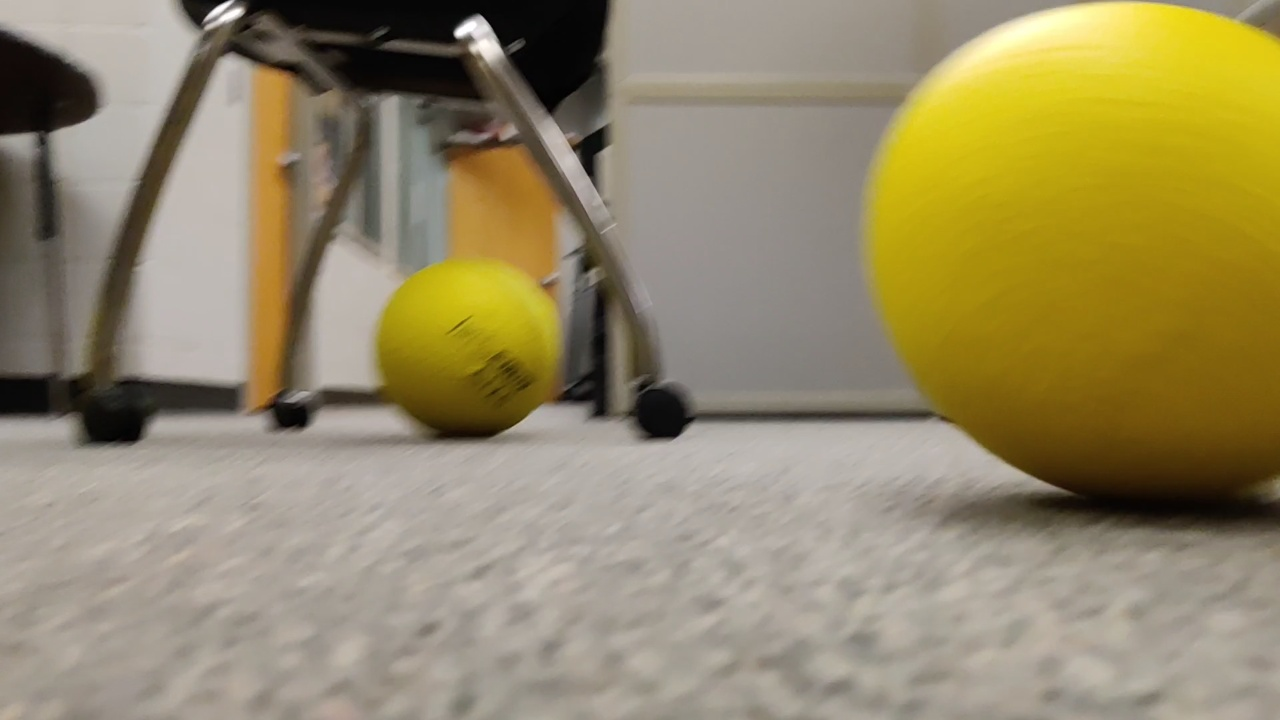Ball: (853, 1, 1277, 503), (376, 253, 559, 438)
